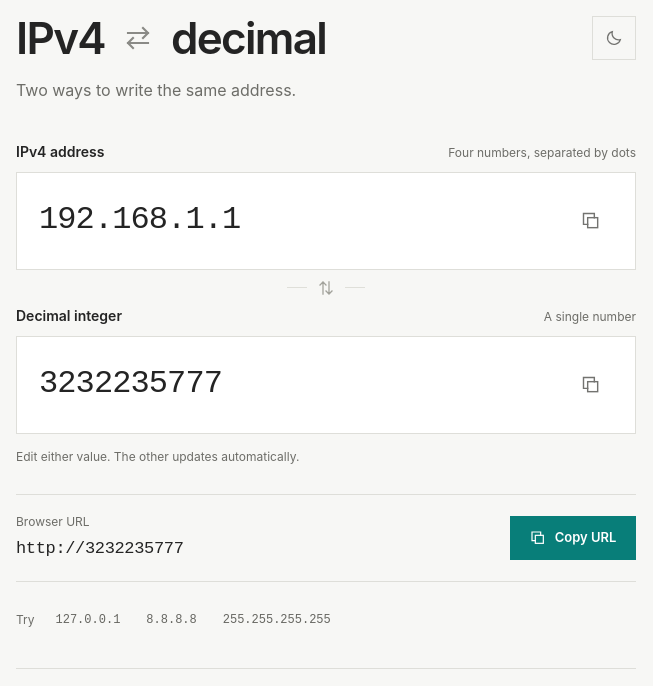
Test case: shows copy failure and clears it on editing
Click the button named "Copy decimal integer" at [591, 385], box [569,363,613,407]
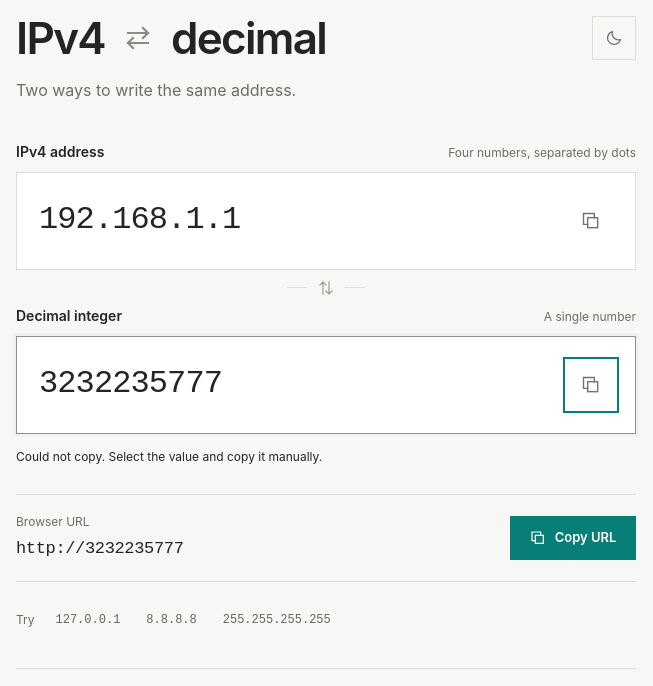
Expected: the text "Could not copy. Select the value and copy it manually." is shown, [16,449,322,464]
Type "8.8.8.8" into the field labelled "IPv4 address" at [296, 221], box [39,198,553,243]
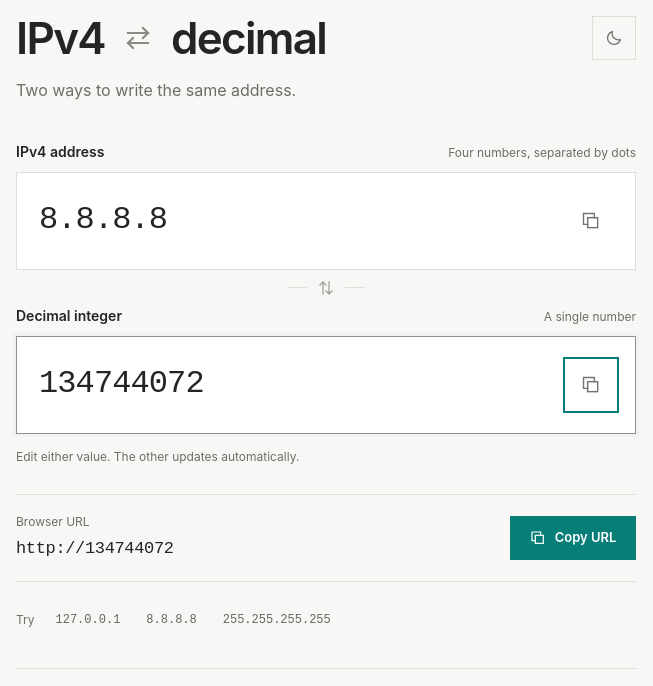
Expected: the text "Edit either value. The other updates automatically." is shown, [16,449,299,464]
